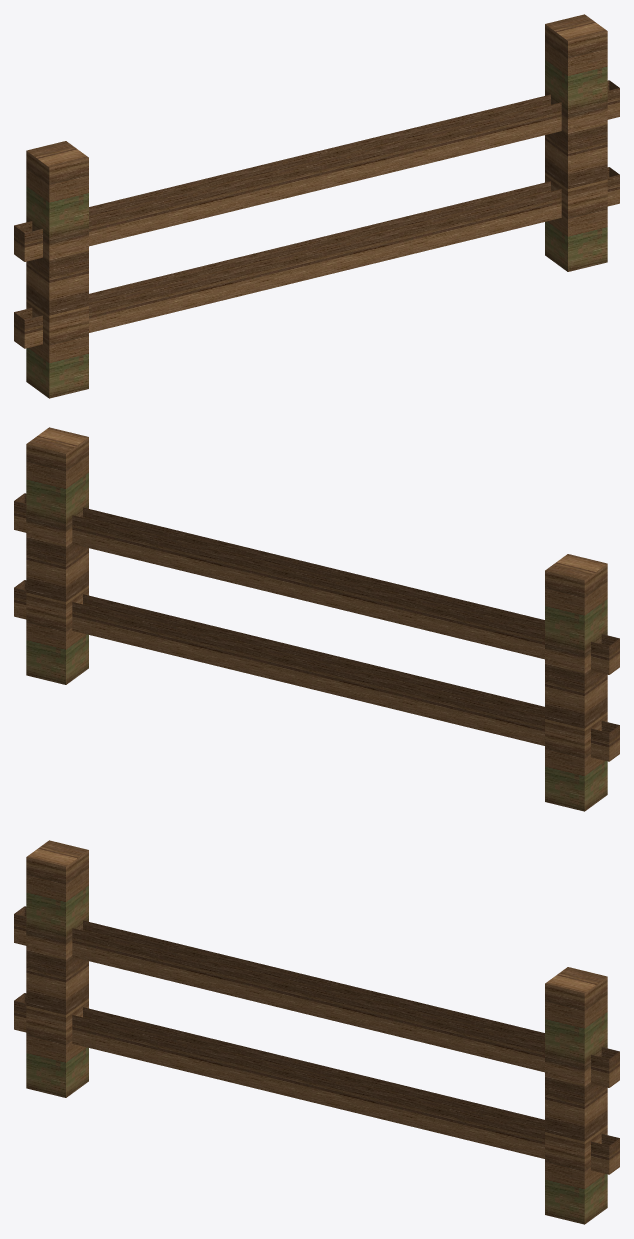
The model's file is fence-rail.glb.
3 views of the same model, one above another, from view 1: azimuth 30°, elevation 25°; view 2: azimuth 150°, elevation 25°; view 3: azimuth 330°, elevation 25° (orthographic).
Visible parts, largest first — view 1: fence-rail; view 2: fence-rail; view 3: fence-rail.
Part boxes in pixels (x1,y1,x2,y2): fence-rail: (14, 14, 619, 398); fence-rail: (14, 427, 619, 811); fence-rail: (14, 840, 619, 1224).
Size of the model in its own units: 1.94 by 0.72 by 0.13.
Materials: 1 (1 with a texture image).
